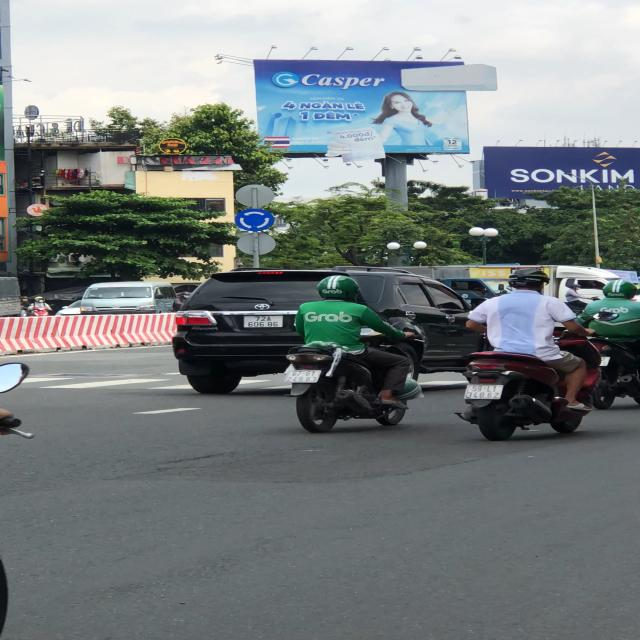Bien bao noi giao nhau chay theo vong xuyen: (233, 206, 269, 232)
